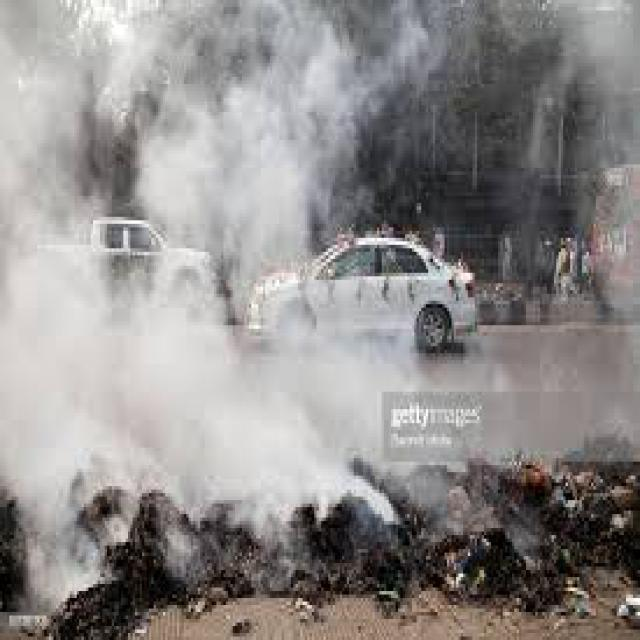smoke: (16, 199, 382, 563), (2, 3, 366, 326)
